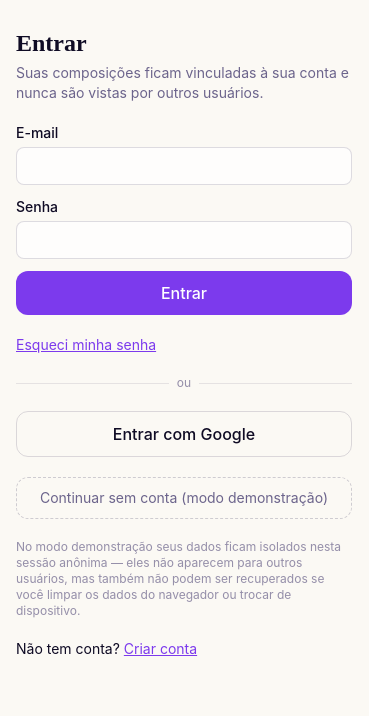
Test: Login — Google popup sign-in › shows a friendly message for cancelled-popup-request
The width and height of the screenshot is (369, 716).
Click the button "Entrar com Google": (184, 434) [16,411,352,457]
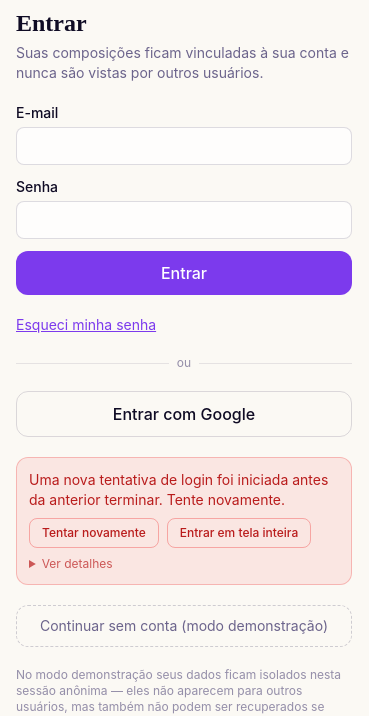
Result: the text "Uma nova tentativa de login foi iniciada" is shown at [29,471,328,508]
